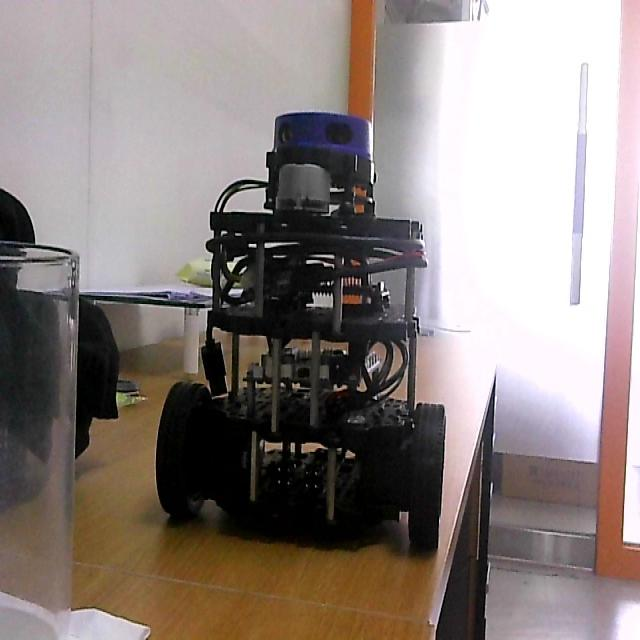turtle: (154, 110, 446, 560)
